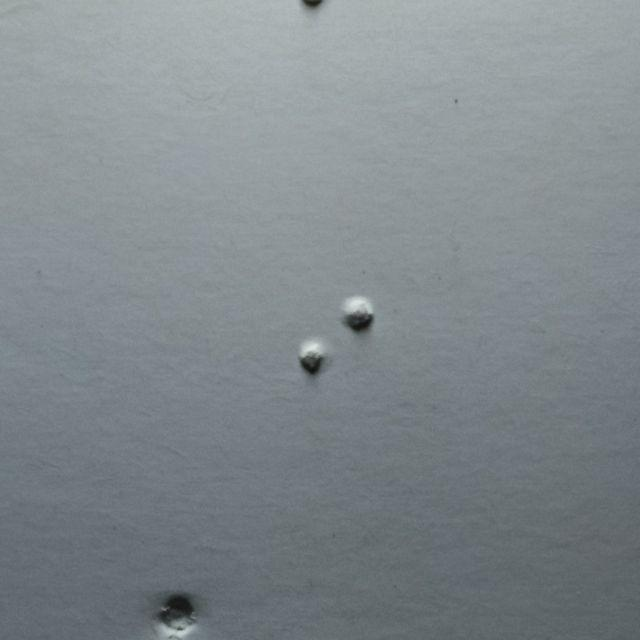ikaw: (297, 296, 373, 416)
